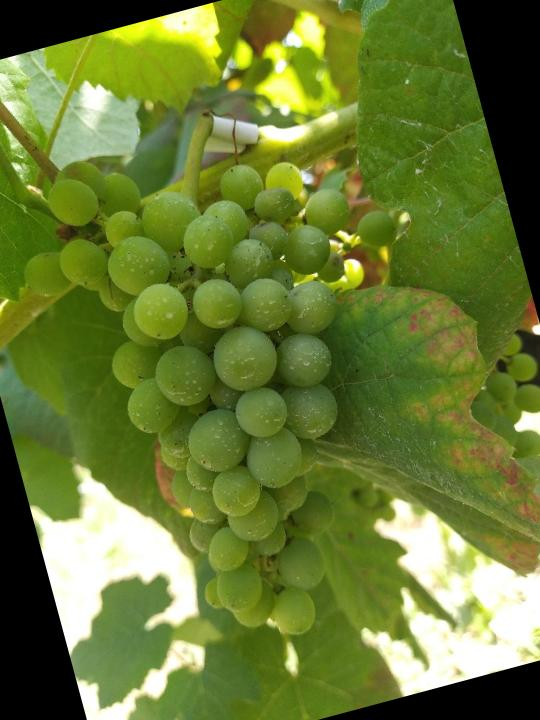grape: (0, 82, 495, 690)
